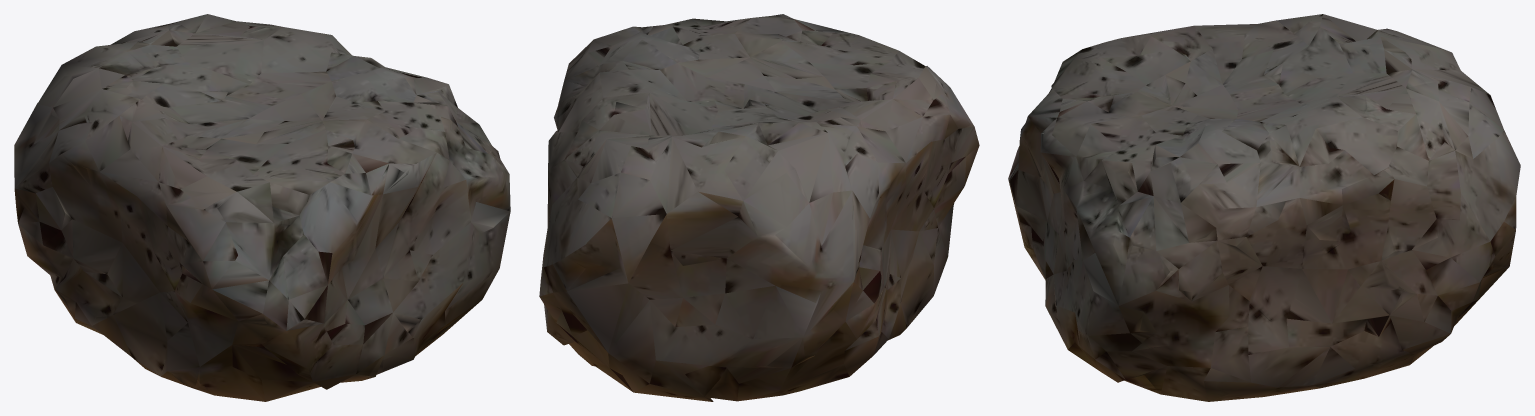
File: rock-italy-tuff.glb
3 renders of one model, left to right at view 1: azimuth 30°, elevation 25°; view 2: azimuth 150°, elevation 25°; view 3: azimuth 270°, elevation 25°, orthographic. The views are drawn at different scales.
Visible parts, largest first — view 1: tripo_node_ea45fe20-a81a-49f1-9703-041c1727b920; view 2: tripo_node_ea45fe20-a81a-49f1-9703-041c1727b920; view 3: tripo_node_ea45fe20-a81a-49f1-9703-041c1727b920.
Part boxes in pixels (<box>): tripo_node_ea45fe20-a81a-49f1-9703-041c1727b920: <box>14,14,510,401</box>; tripo_node_ea45fe20-a81a-49f1-9703-041c1727b920: <box>539,14,979,401</box>; tripo_node_ea45fe20-a81a-49f1-9703-041c1727b920: <box>1008,14,1520,401</box>.
Bounding box in the file's own units: 1.72 × 1.1 × 1.92.
Materials: 1 (1 with a texture image).
